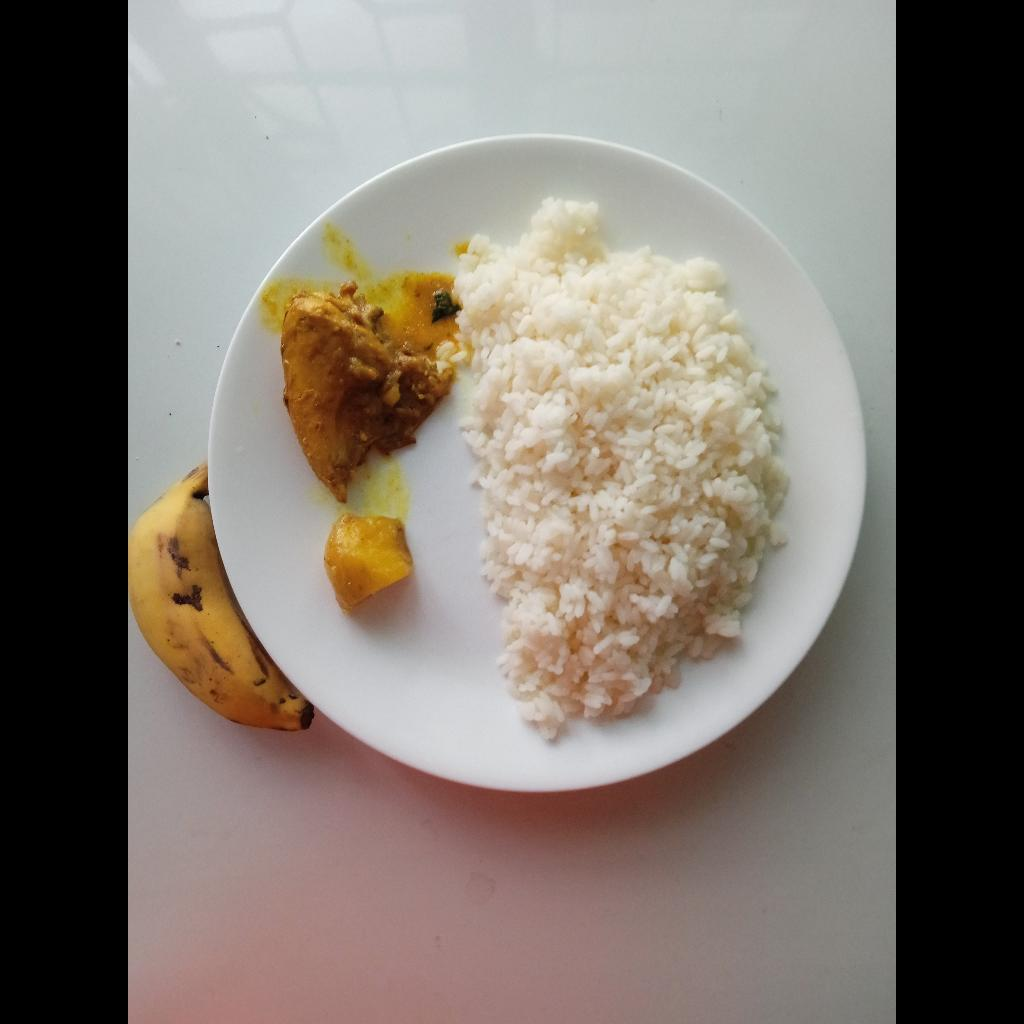banana: (128, 468, 303, 736)
chicken: (280, 274, 454, 490)
potato: (329, 511, 410, 609)
rice: (454, 203, 793, 741)
